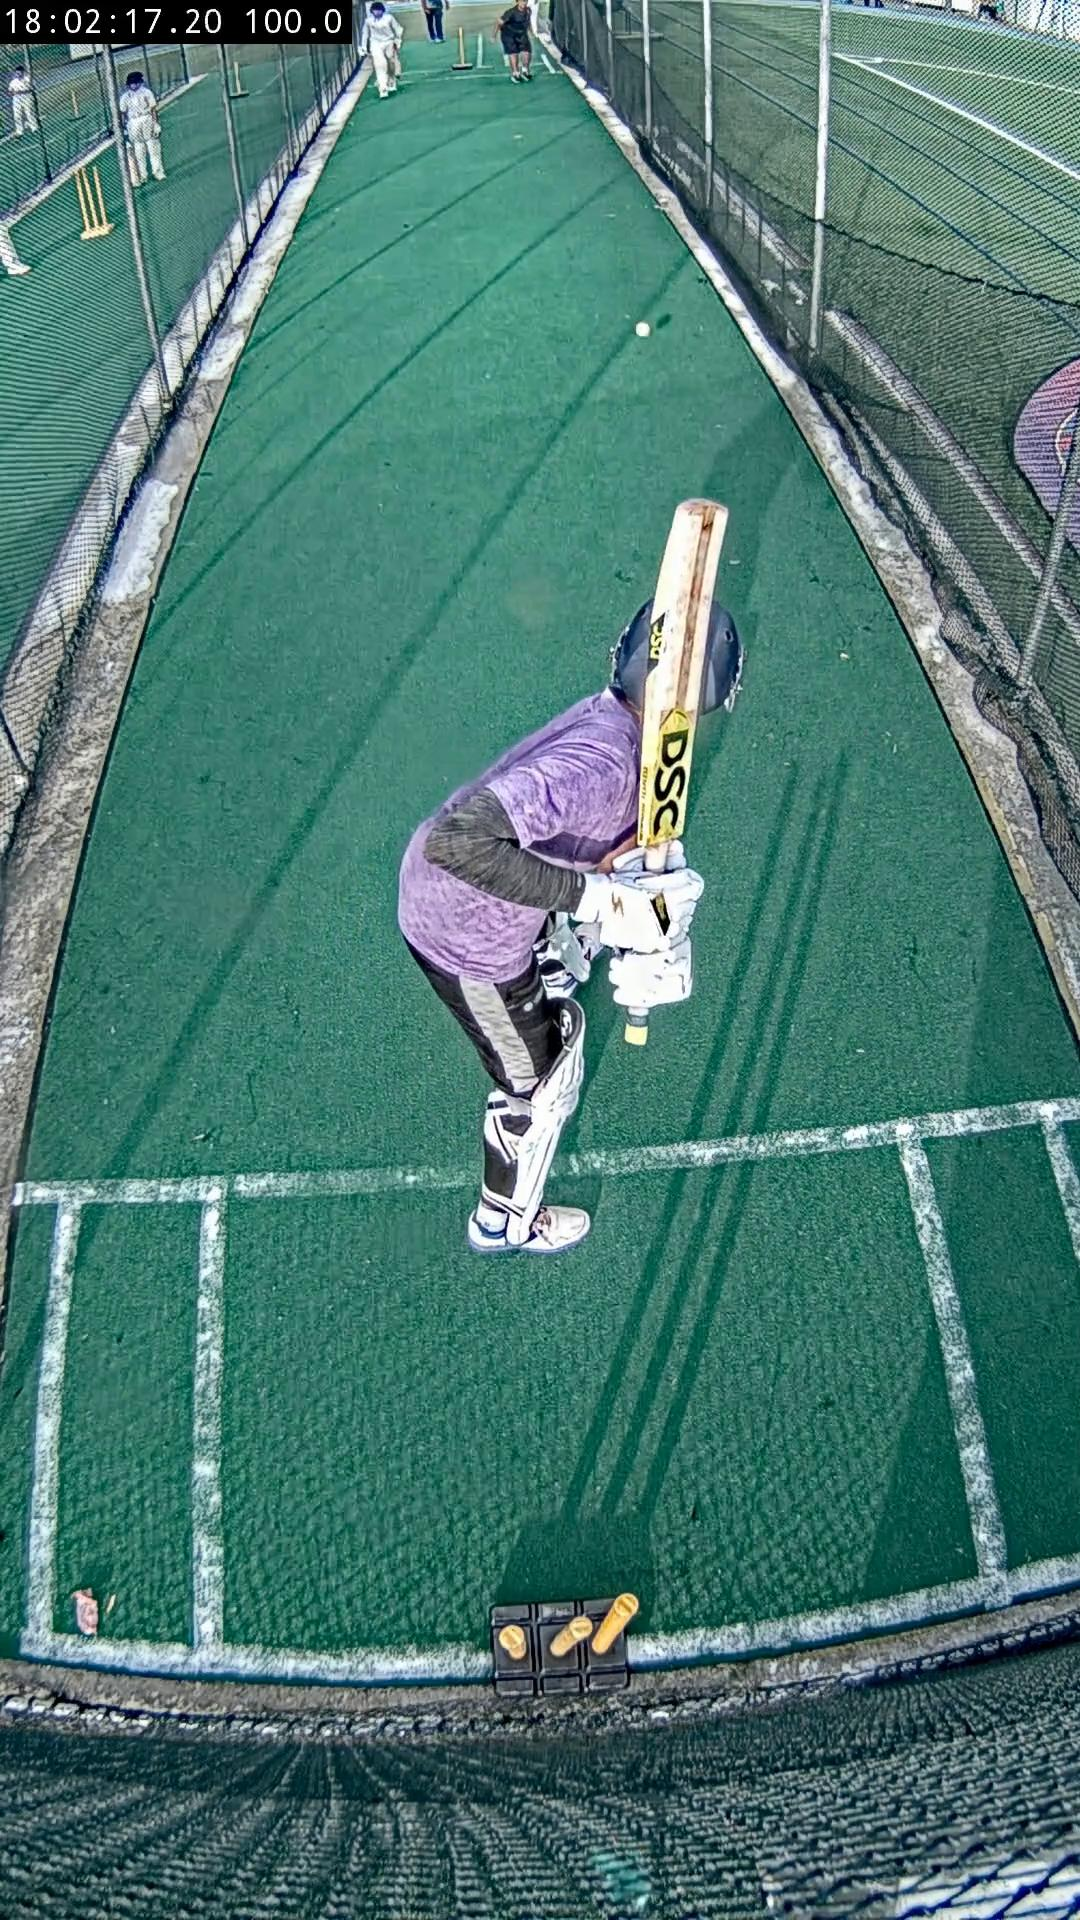ball: (634, 323, 653, 338)
bat: (637, 498, 728, 870)
gloves: (574, 848, 705, 1009)
helmet: (698, 604, 742, 712), (612, 600, 657, 707)
pads: (506, 997, 585, 1245)
stumps: (492, 1594, 637, 1695)
